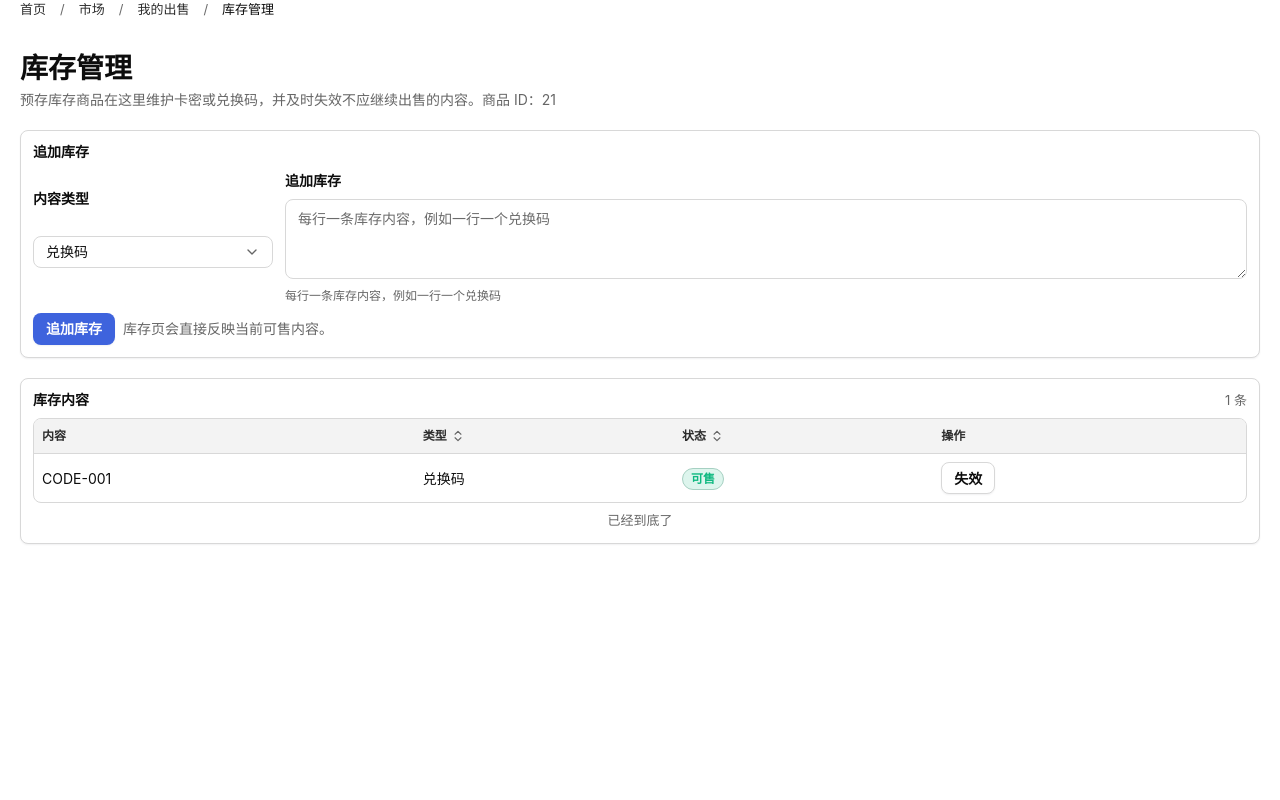
Test: Unified market seller views › requires a confirmation before invalidating an available unit
Click the button "失效".
click(968, 478)  # box top-left (941, 462), bottom-right (995, 494)
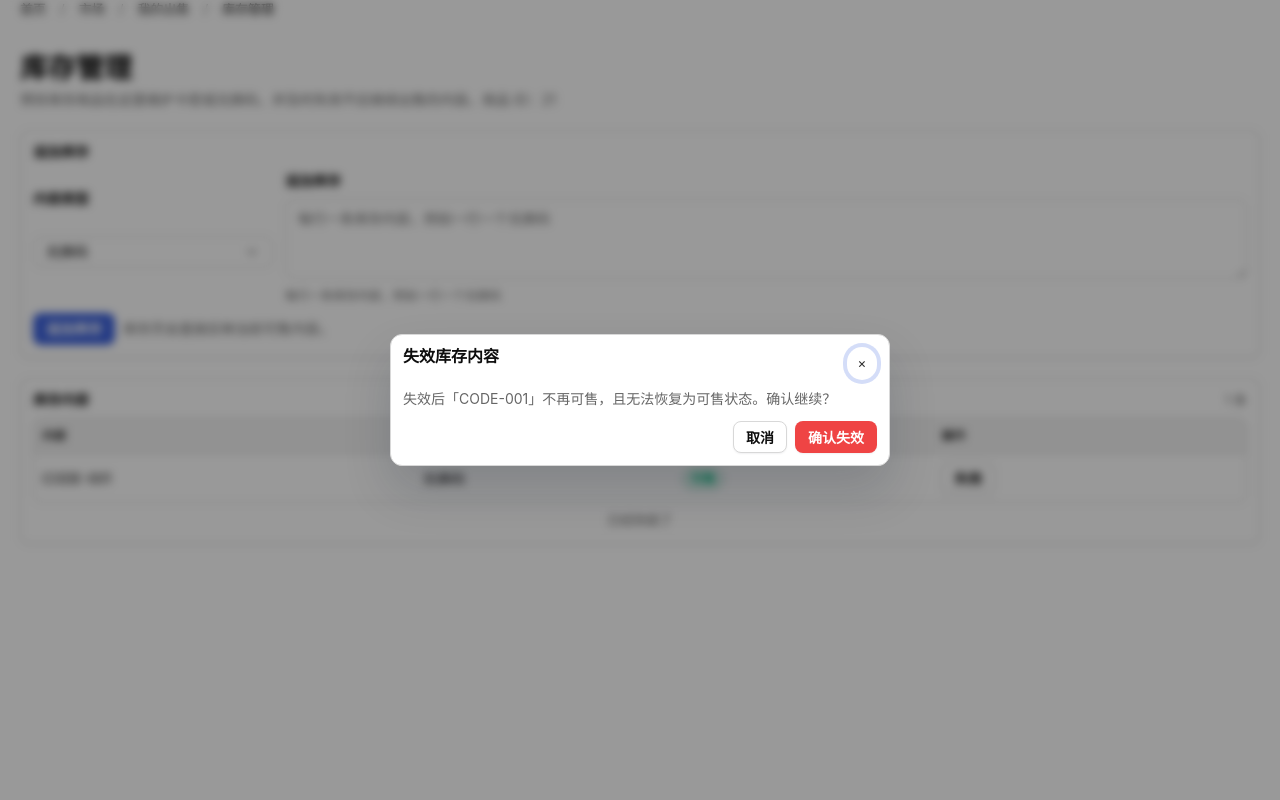
Now the dialog shows "CODE-001", box top-left (403, 390), bottom-right (836, 408)
Now the dialog shows "不再可售", box top-left (403, 390), bottom-right (836, 408)
Click the button "取消".
click(760, 438)  # box top-left (733, 422), bottom-right (787, 454)
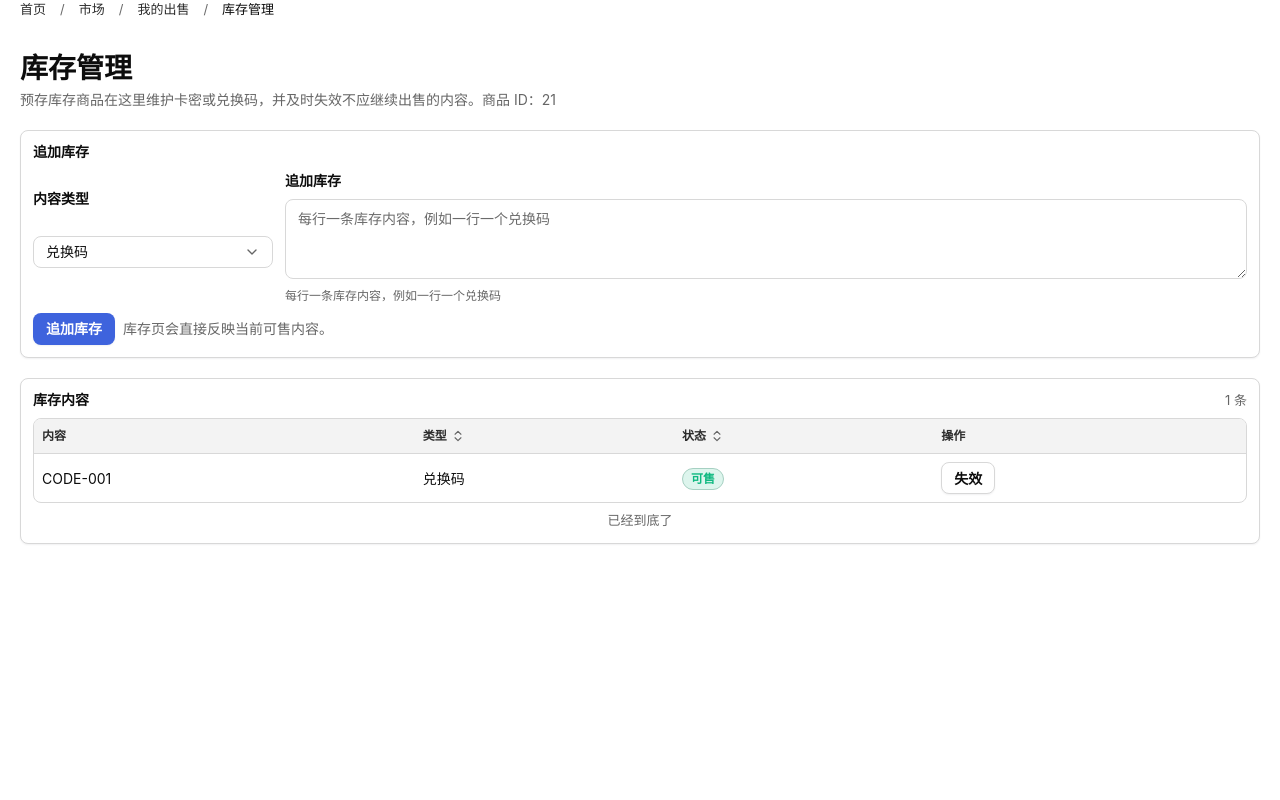
# 再确认：经 UiModalConfirm 复述后真正失效并刷新列表。
Click the button "失效".
click(968, 478)  # box top-left (941, 462), bottom-right (995, 494)
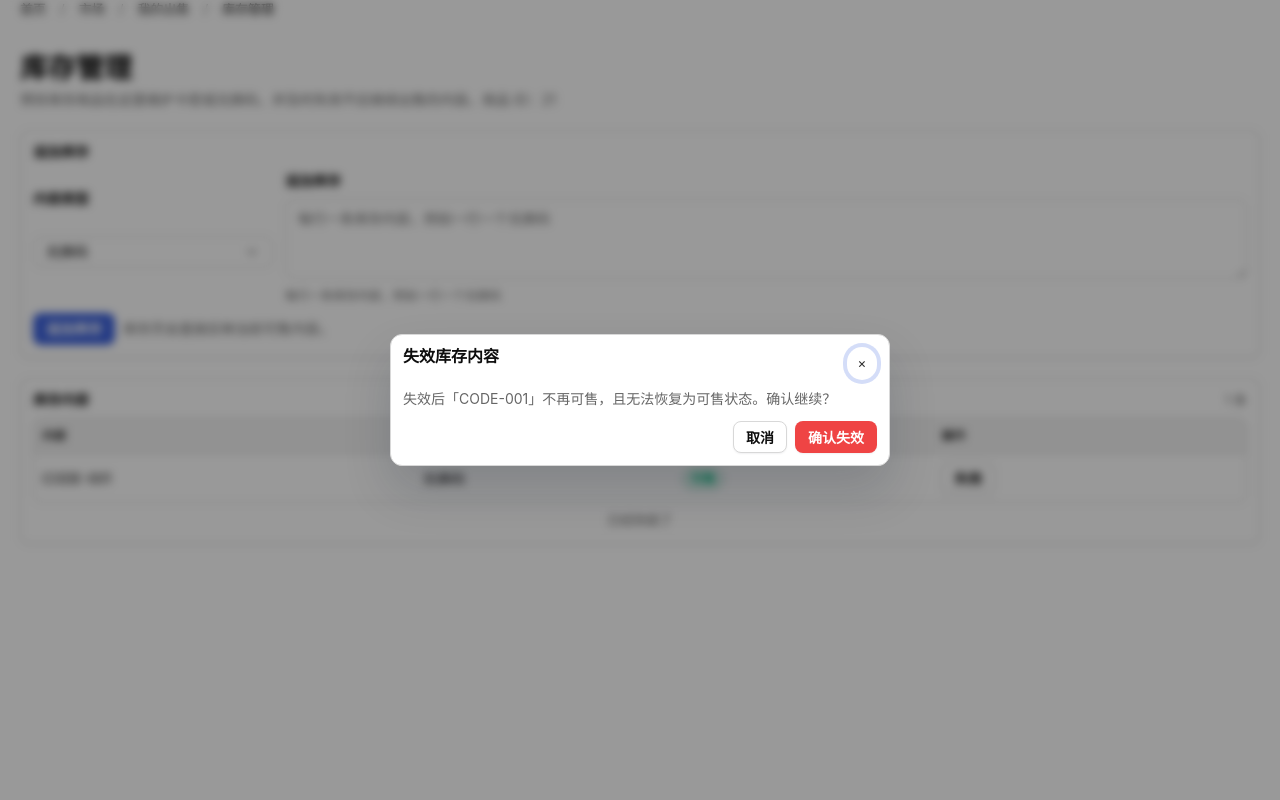
Click the button "确认失效".
click(836, 438)  # box top-left (795, 422), bottom-right (877, 454)
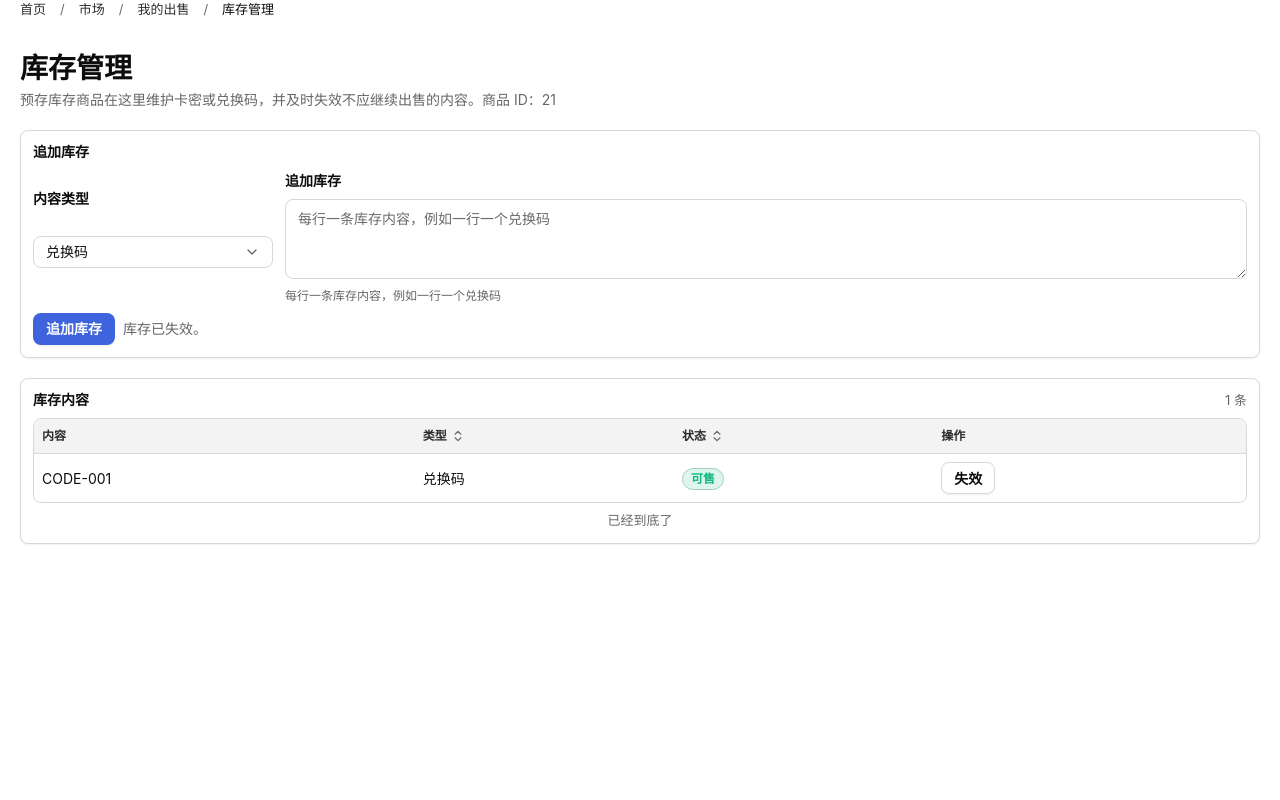
Now the text "库存已失效。" is shown, box top-left (123, 318), bottom-right (207, 340)
